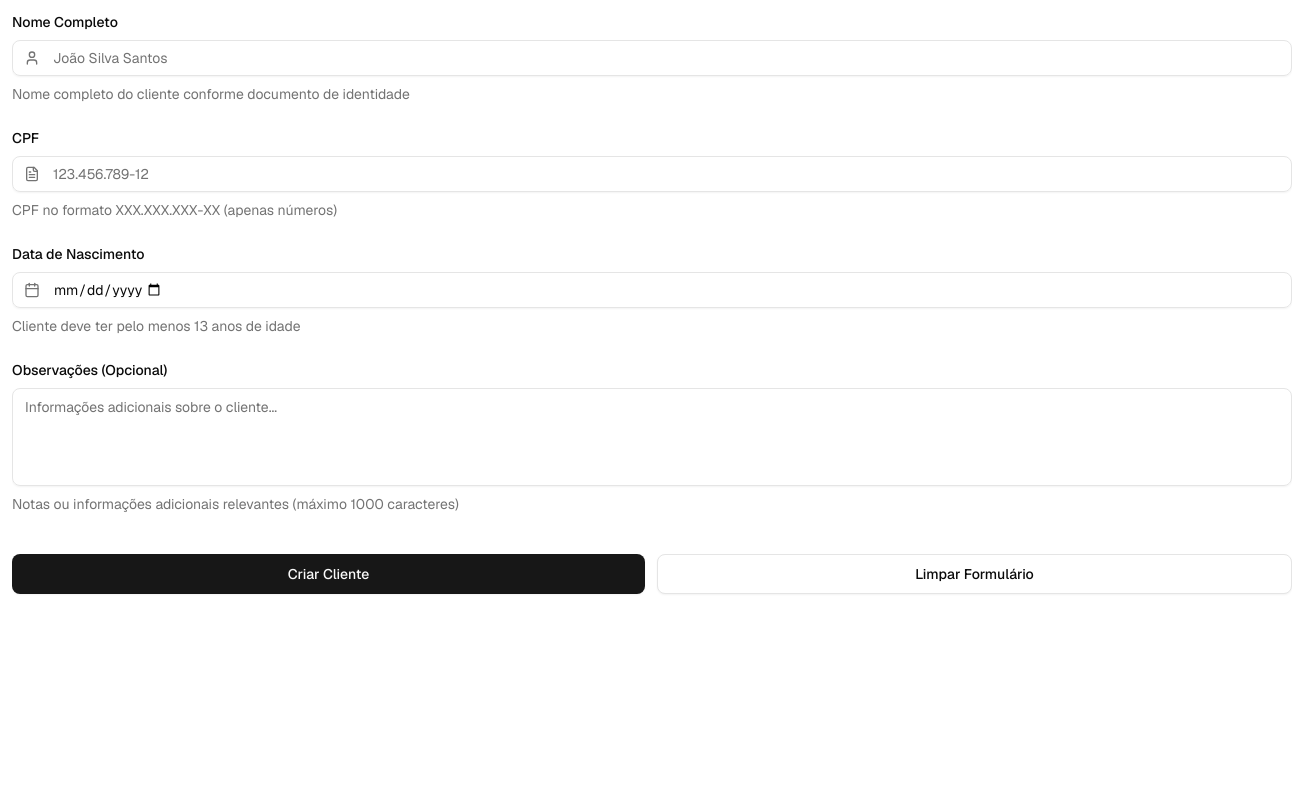
Test: ClientRegistrationForm - Responsive & Accessibility Tests › Performance & Rendering › should handle rapid input changes gracefully
// Rapidly type and delete
Type "12345678901" into the field named "cpf" at (652, 174), box [12, 156, 1292, 192]
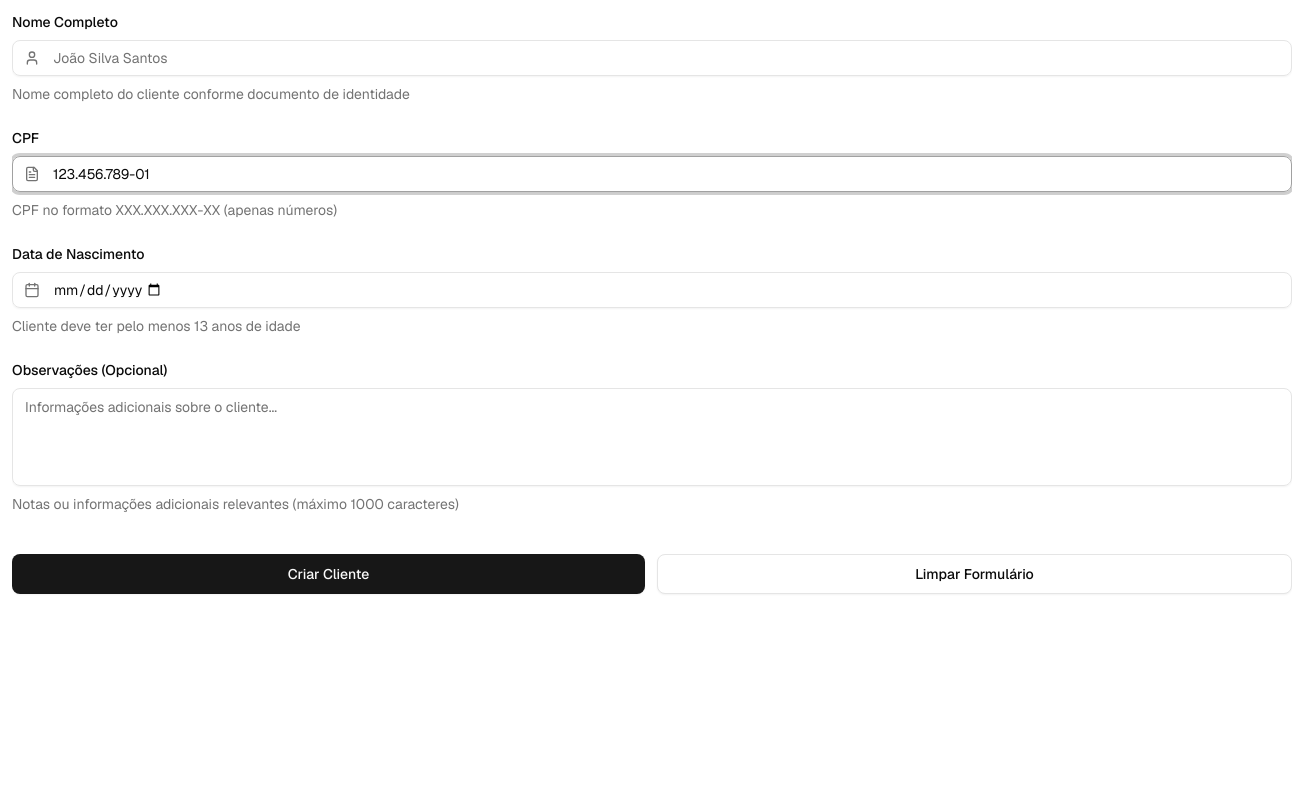
Replace the text in the field named "cpf" with "987654321" at (652, 174), box [12, 156, 1292, 192]
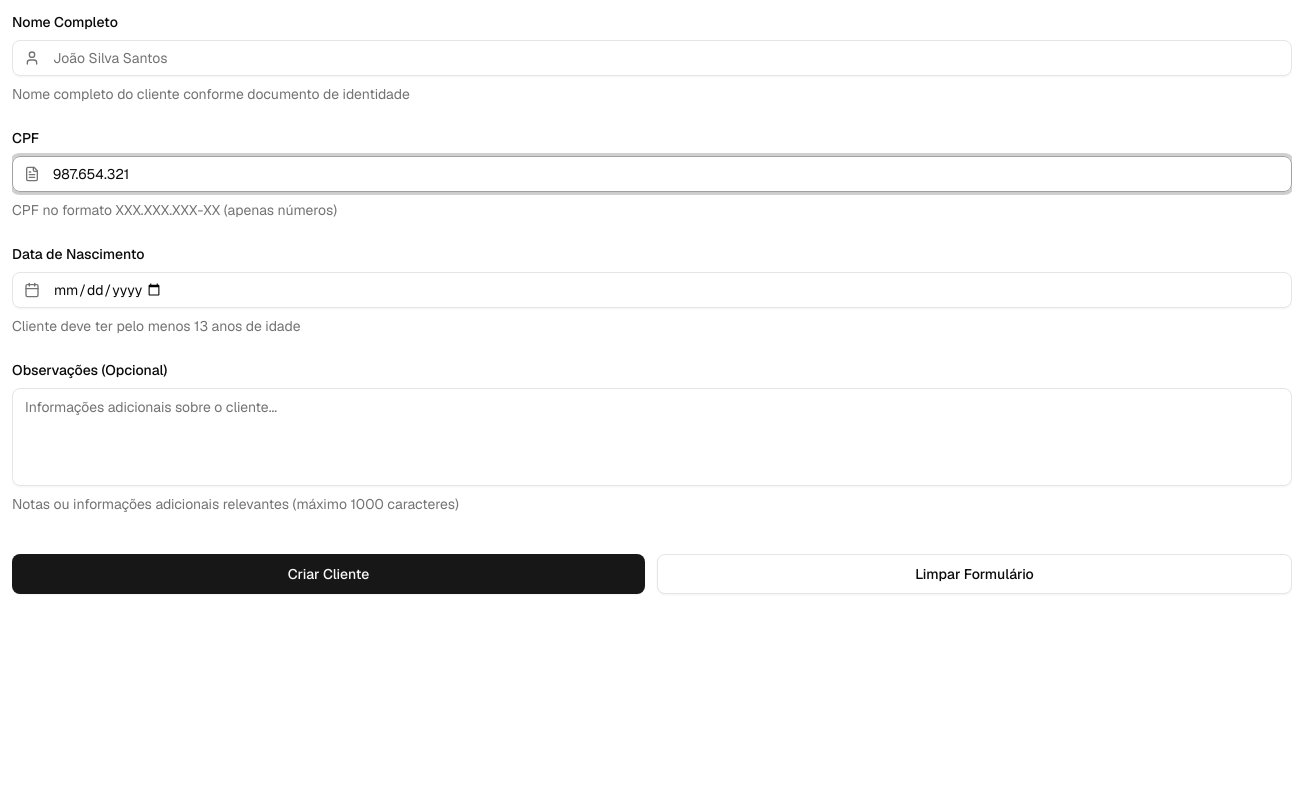
Check: the field named "cpf" holds "987.654.321", box [12, 156, 1292, 192]
